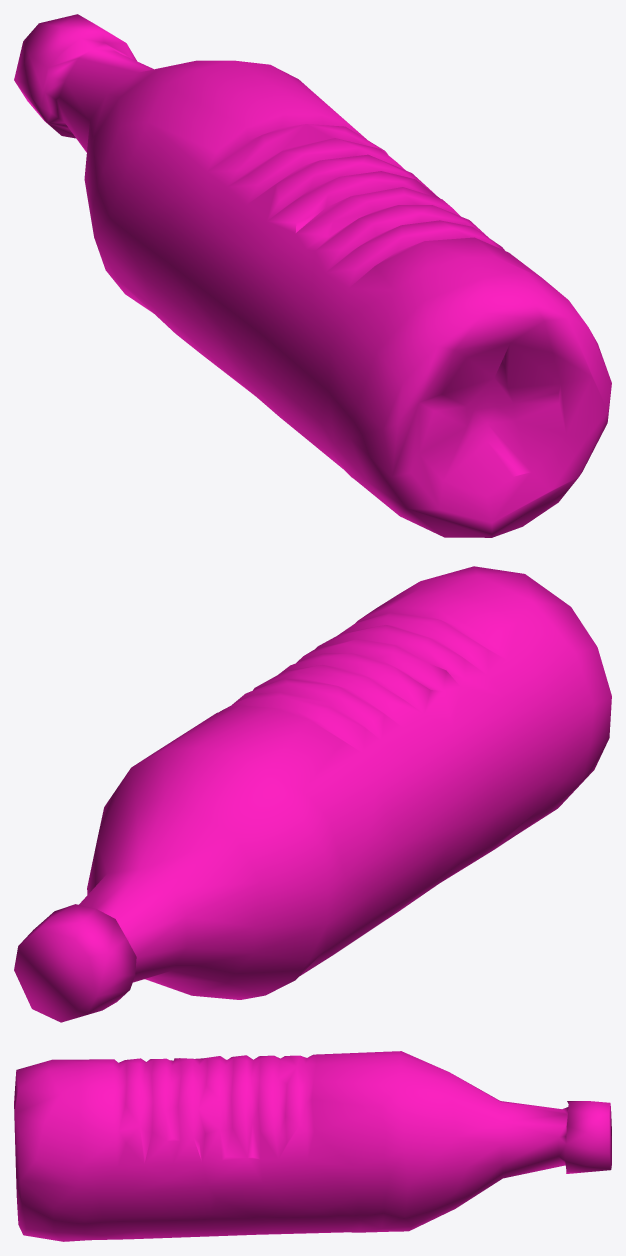
File: bottle8_5.dae
3 views of the same model, one above another, from view 1: azimuth 30°, elevation 25°; view 2: azimuth 150°, elevation 25°; view 3: azimuth 270°, elevation 25° (orthographic). The views are drawn at different scales.
Parts seen in each view (by area): view 1: MelforBottle_800_tex_019; view 2: MelforBottle_800_tex_019; view 3: MelforBottle_800_tex_019.
Boxes of the visible parts, <box> form: MelforBottle_800_tex_019: <box>14,14,611,537</box>; MelforBottle_800_tex_019: <box>14,566,611,1022</box>; MelforBottle_800_tex_019: <box>14,1051,611,1241</box>.
Bounding box in the file's own units: 0.0436 × 0.1406 × 0.045.
